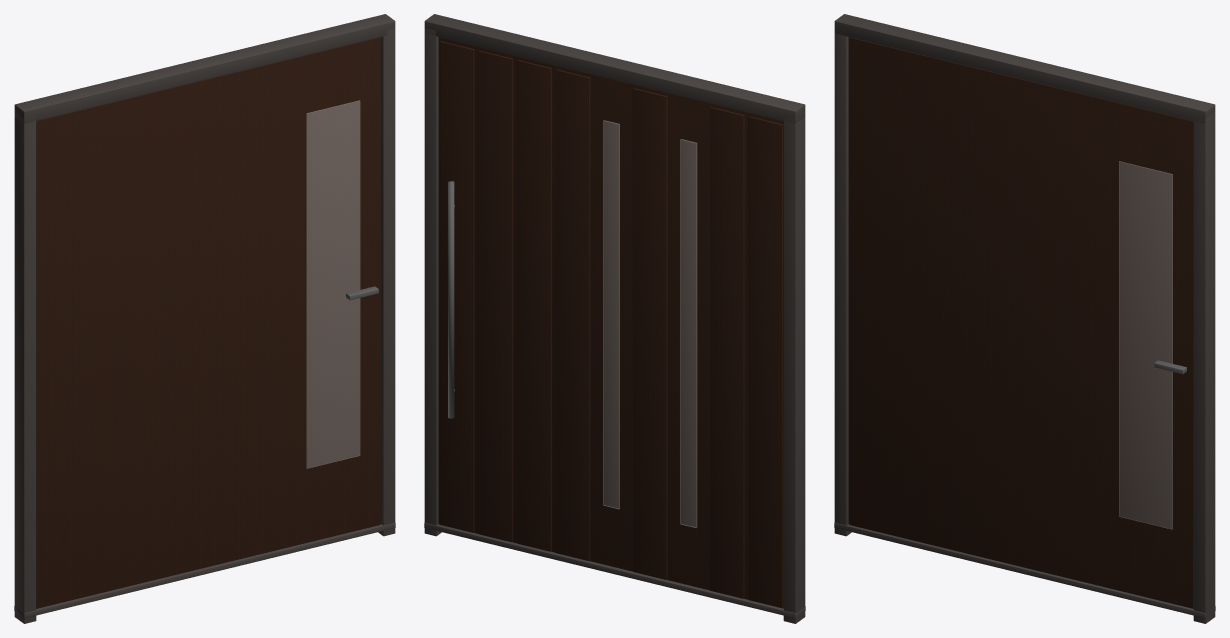
The model's file is genkan-door.glb.
3 views of the same model, side by side, from view 1: azimuth 30°, elevation 25°; view 2: azimuth 150°, elevation 25°; view 3: azimuth 330°, elevation 25° (orthographic).
Parts seen in each view (by area): view 1: Hero_GenkanDoor_intSkin, Hero_GenkanGlass_int, frame-west, frame-head, frame-east, frame-sill, Hero_GenkanDoor_core; view 2: Hero_GenkanDoor_core, Hero_GenkanSlat_3, Hero_GenkanSlat_5, Hero_GenkanSlat_7, Hero_GenkanSlat_0, Hero_GenkanSlat_1, Hero_GenkanSlat_6, Hero_GenkanSlat_8, frame-west, frame-head, frame-east, Hero_GenkanGlass_ext_4 (+3 smaller); view 3: Hero_GenkanDoor_intSkin, Hero_GenkanGlass_int, frame-east, frame-head, frame-west, frame-sill, Hero_GenkanDoor_core.
Part boxes in pixels (bbox=[...]): Hero_GenkanDoor_intSkin: bbox=[36, 37, 380, 608]; Hero_GenkanGlass_int: bbox=[306, 100, 360, 468]; frame-west: bbox=[14, 113, 36, 623]; frame-head: bbox=[14, 14, 395, 123]; frame-east: bbox=[378, 28, 395, 536]; frame-sill: bbox=[14, 522, 395, 618]; Hero_GenkanDoor_core: bbox=[380, 37, 381, 524]; Hero_GenkanDoor_core: bbox=[438, 37, 783, 608]; Hero_GenkanSlat_3: bbox=[632, 88, 667, 579]; Hero_GenkanSlat_5: bbox=[555, 69, 590, 561]; Hero_GenkanSlat_7: bbox=[478, 50, 513, 542]; Hero_GenkanSlat_0: bbox=[748, 116, 783, 608]; Hero_GenkanSlat_1: bbox=[710, 107, 744, 598]; Hero_GenkanSlat_6: bbox=[517, 60, 551, 551]; Hero_GenkanSlat_8: bbox=[440, 41, 474, 532]; frame-west: bbox=[783, 112, 805, 623]; frame-head: bbox=[424, 14, 805, 123]; frame-east: bbox=[424, 28, 441, 536]; Hero_GenkanGlass_ext_4: bbox=[603, 120, 619, 509]; Hero_GenkanDoor_intSkin: bbox=[849, 37, 1193, 608]; Hero_GenkanGlass_int: bbox=[1119, 161, 1172, 529]; frame-east: bbox=[1193, 112, 1215, 623]; frame-head: bbox=[834, 14, 1215, 123]; frame-west: bbox=[834, 28, 851, 536]; frame-sill: bbox=[834, 522, 1215, 618]; Hero_GenkanDoor_core: bbox=[848, 37, 849, 524].
Size of the model in its own units: 1.52 by 2.01 by 0.111.
5 materials, 2 textured.
